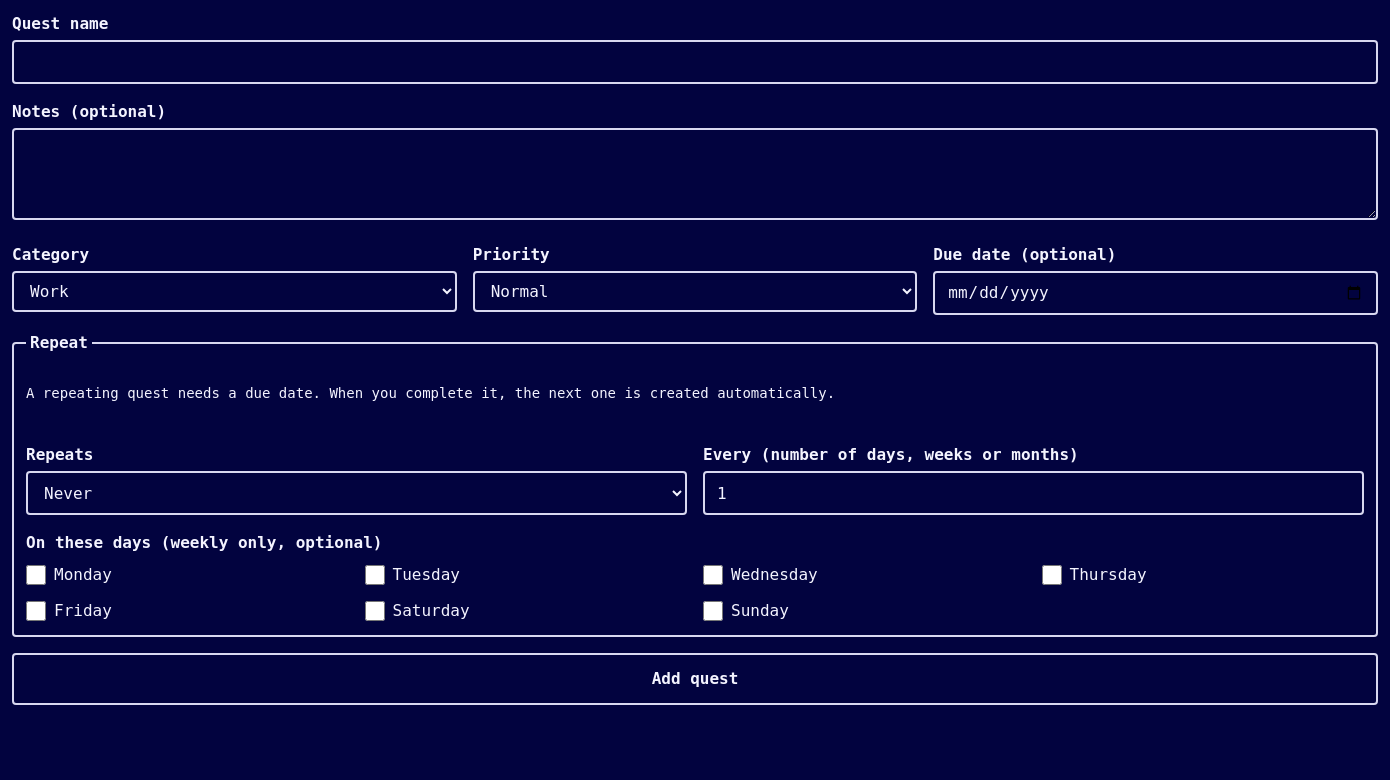
Test: TaskForm › explains a rejected field and ties the message to it for screen readers
Click the button "Add quest".
click(695, 679)  # box [12, 653, 1378, 705]
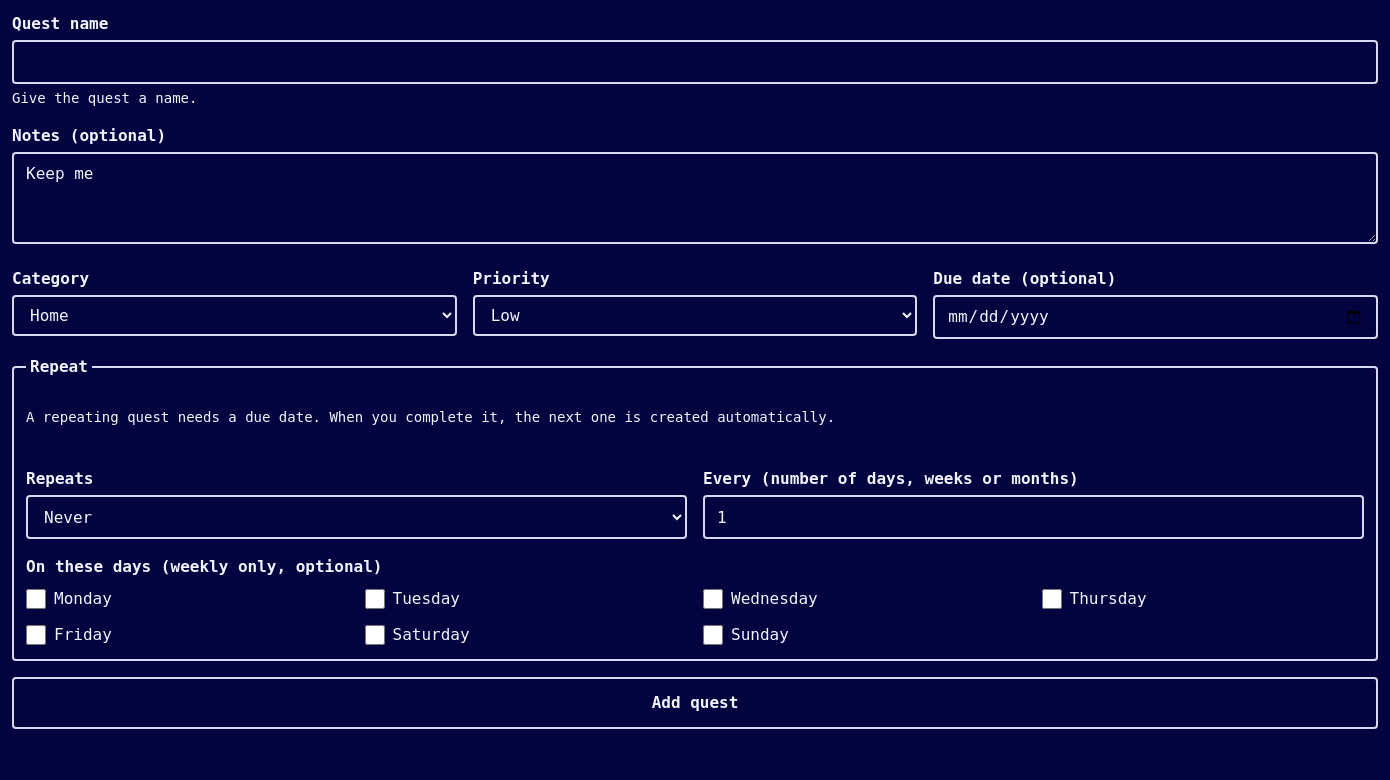
Expected: the text "Give the quest a name." is shown, [12, 90, 197, 106]
